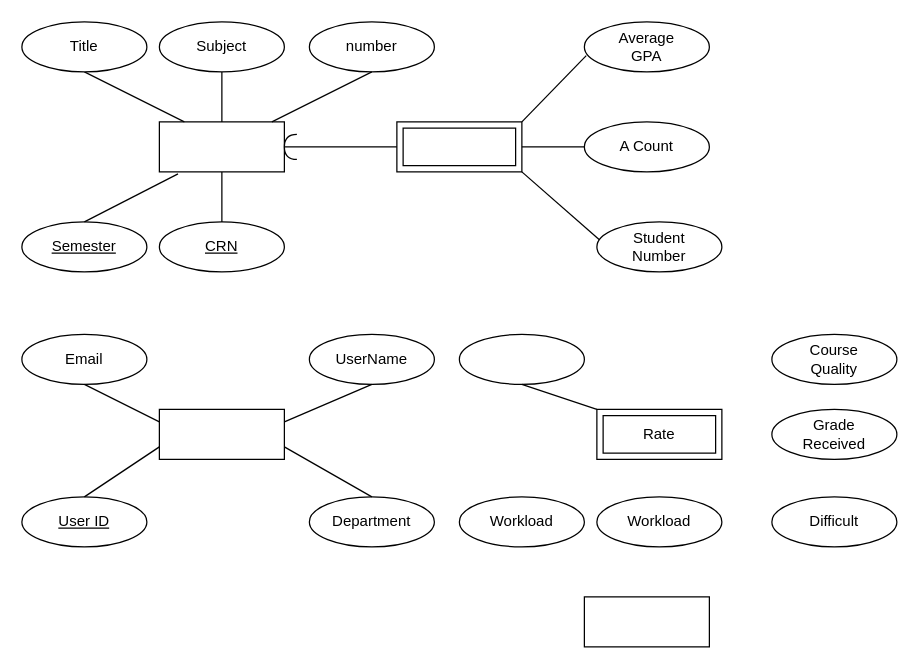
The diagram is 919 pixels wide and 669 high, and some of its shapes have lost their labels. Each missing label, with the centre of its shape:
"Course Comment" goes at (x=646, y=621).
"Rate Time" goes at (x=521, y=358).
"section" goes at (x=221, y=146).
"Section information" goes at (x=459, y=146).
"user" goes at (x=221, y=433).
